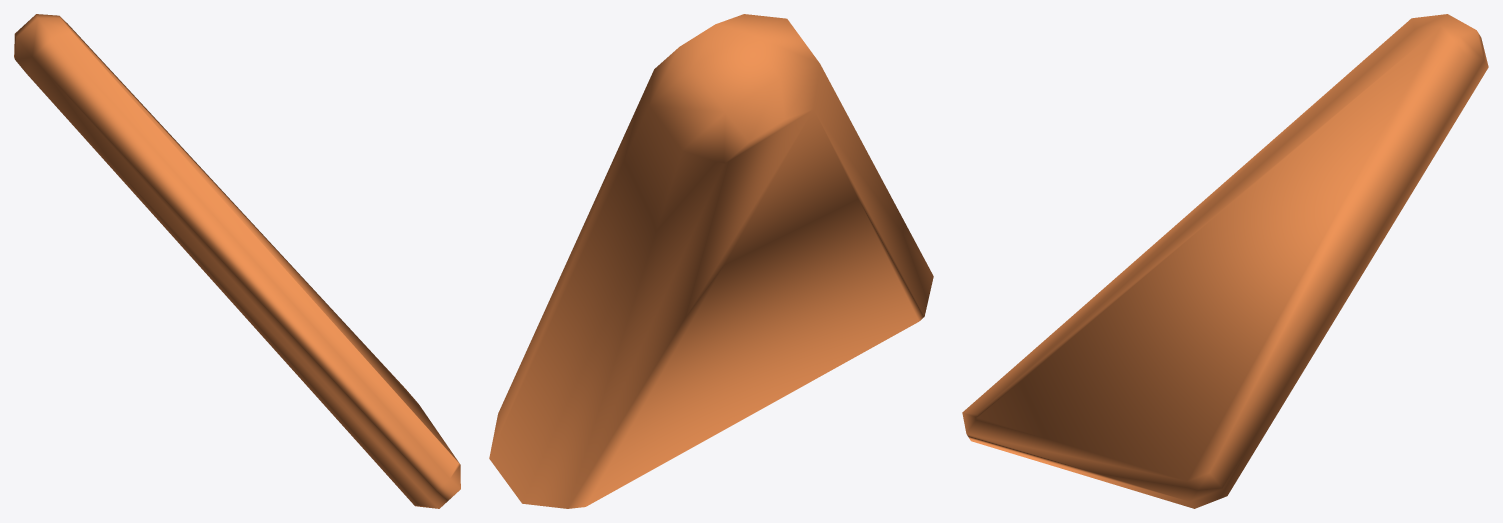
File: drone_2_003.fbx
3 views of the same model, side by side, from view 1: azimuth 30°, elevation 25°; view 2: azimuth 150°, elevation 25°; view 3: azimuth 270°, elevation 25° (orthographic). The views are drawn at different scales.
Parts seen in each view (by area): view 1: drone_2_003; view 2: drone_2_003; view 3: drone_2_003.
Part boxes in pixels (bbox=[...]): drone_2_003: bbox=[14, 14, 460, 508]; drone_2_003: bbox=[489, 14, 933, 508]; drone_2_003: bbox=[962, 14, 1488, 508].
Bounding box in the file's own units: 85.96 × 146 × 117.
